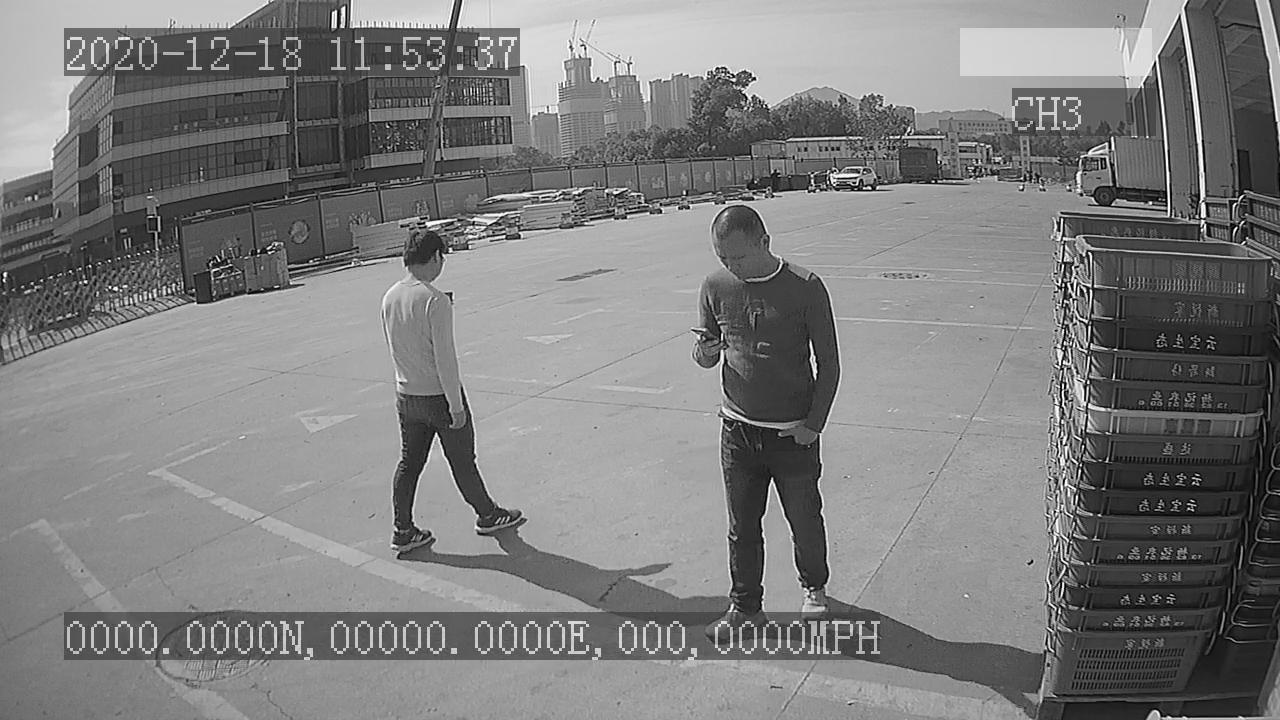person: (363, 222, 535, 560)
